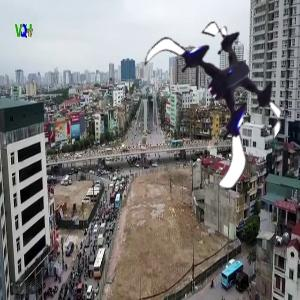drone: (137, 10, 298, 171)
